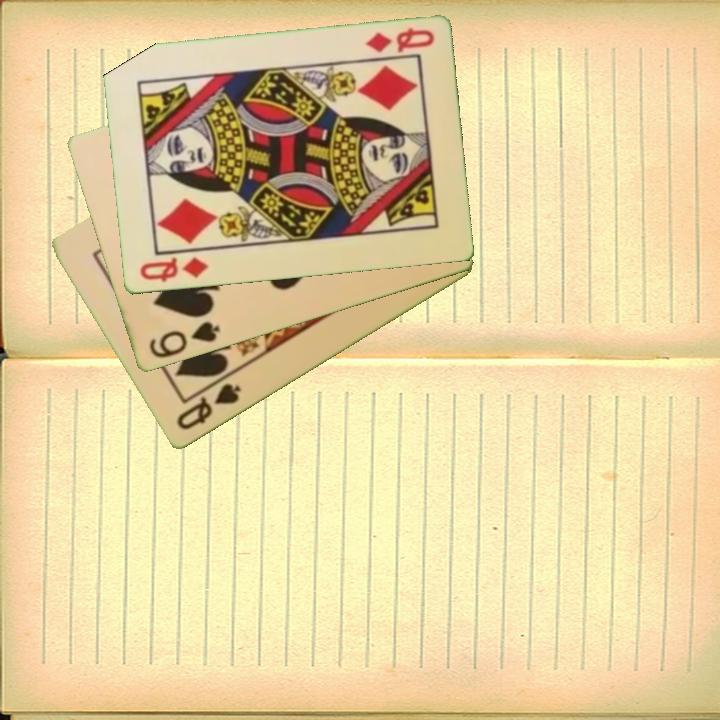6s: (145, 318, 223, 362)
Qd: (136, 253, 211, 286), (362, 25, 437, 56)
Qs: (173, 380, 244, 434)
